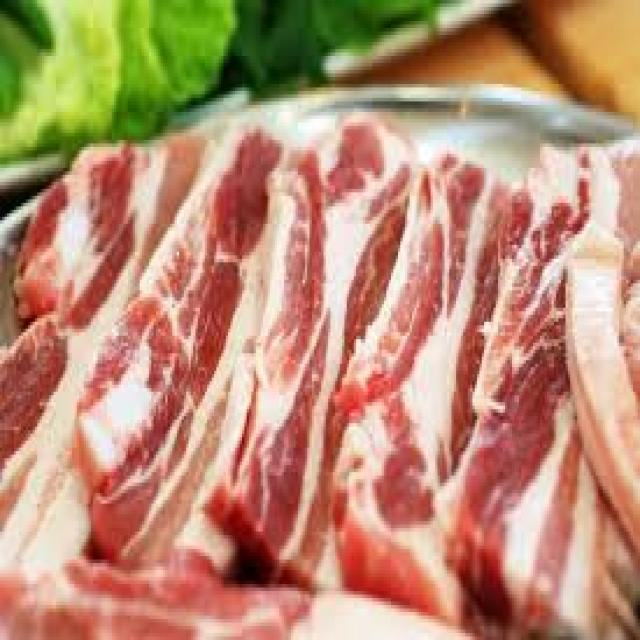Pork: (179, 119, 410, 575), (335, 154, 535, 624), (75, 129, 282, 558)
